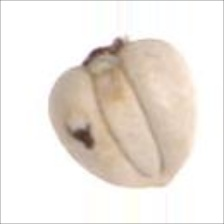L5: (91, 63, 165, 177), (74, 36, 135, 73)
L6: (46, 35, 198, 194)
